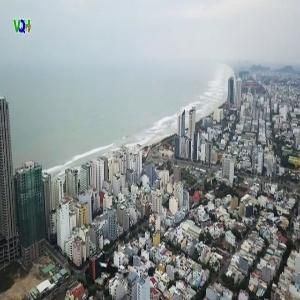drone: (88, 241, 143, 296)
